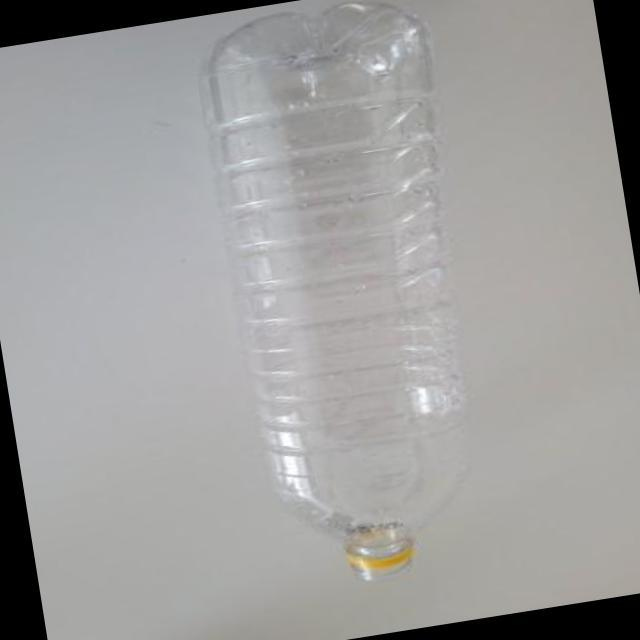good: (169, 0, 535, 611)
